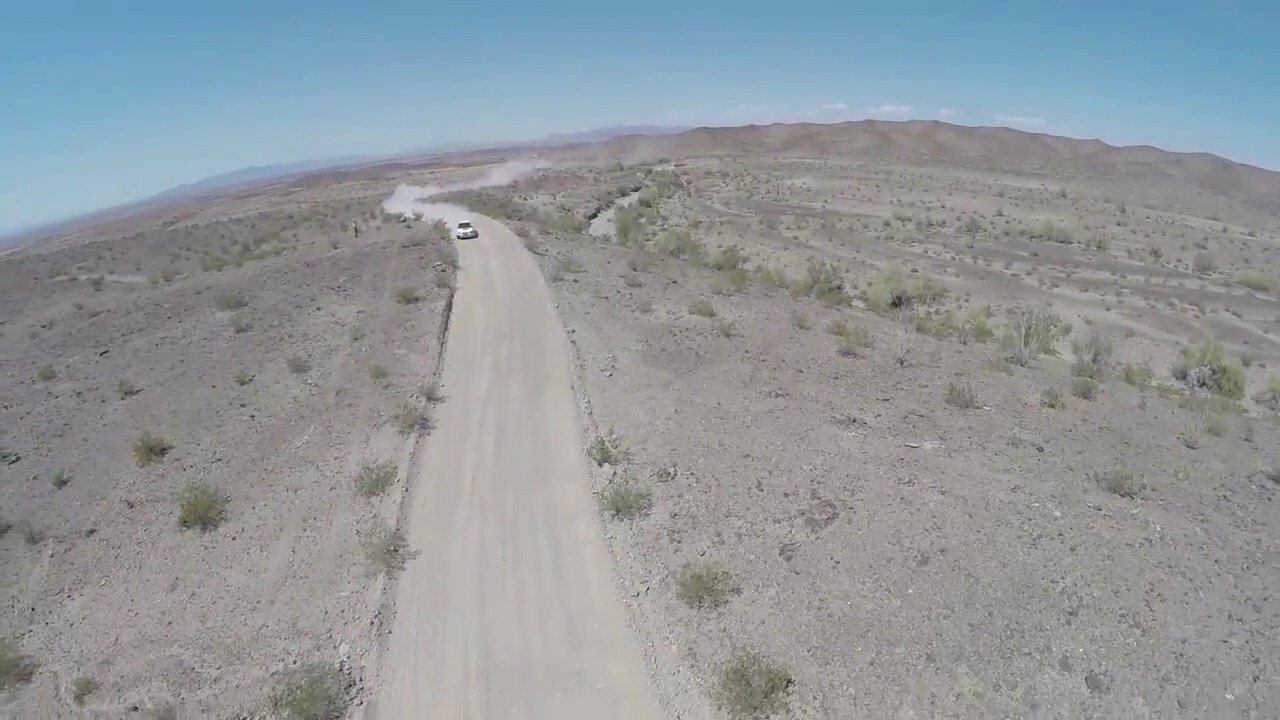araba: (453, 217, 480, 240)
